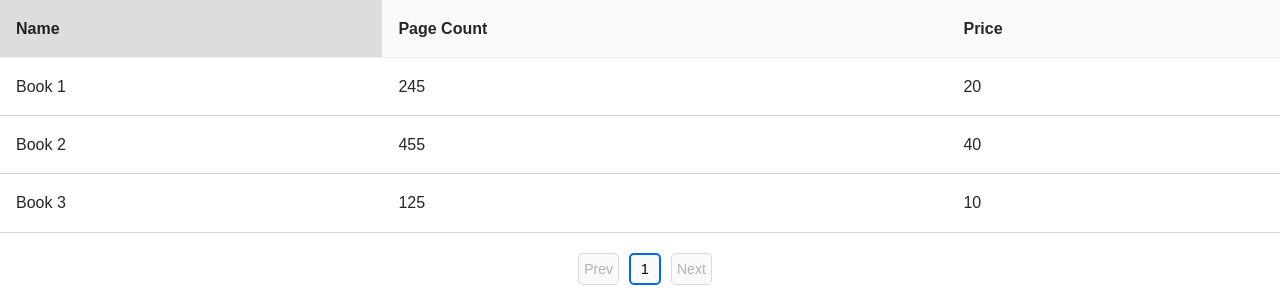
Test case: Table.vue › low to high sorting
The image size is (1280, 302).
Click the column heading with class "table-column" showing "Price".
click(1114, 29)  # box [948, 0, 1279, 58]
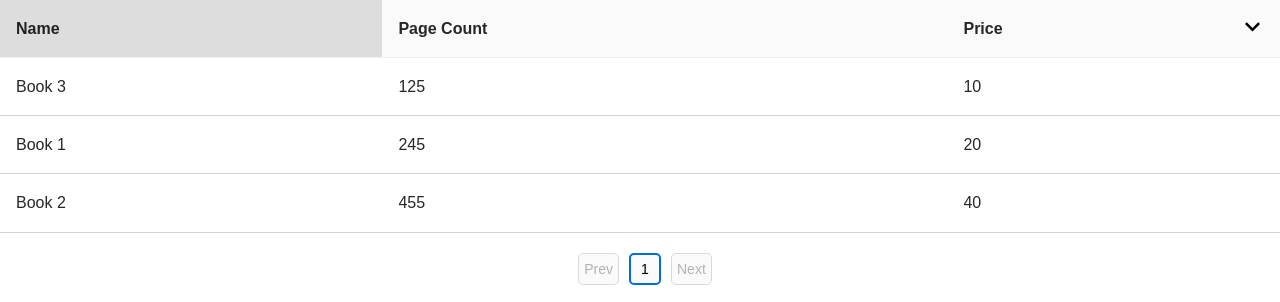
Expected: the cell "10" is shown, [948, 58, 1279, 116]
